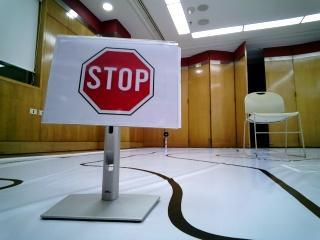stop: (62, 39, 167, 117)
